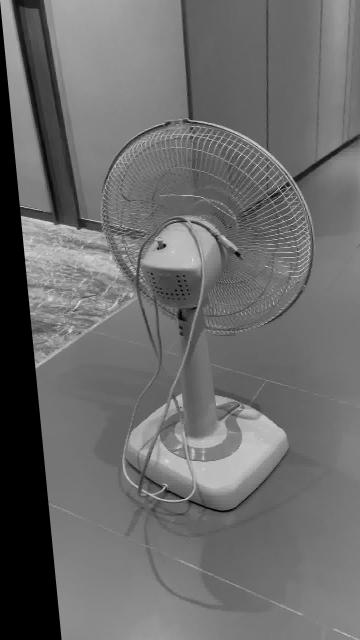Fan: (97, 120, 310, 514)
